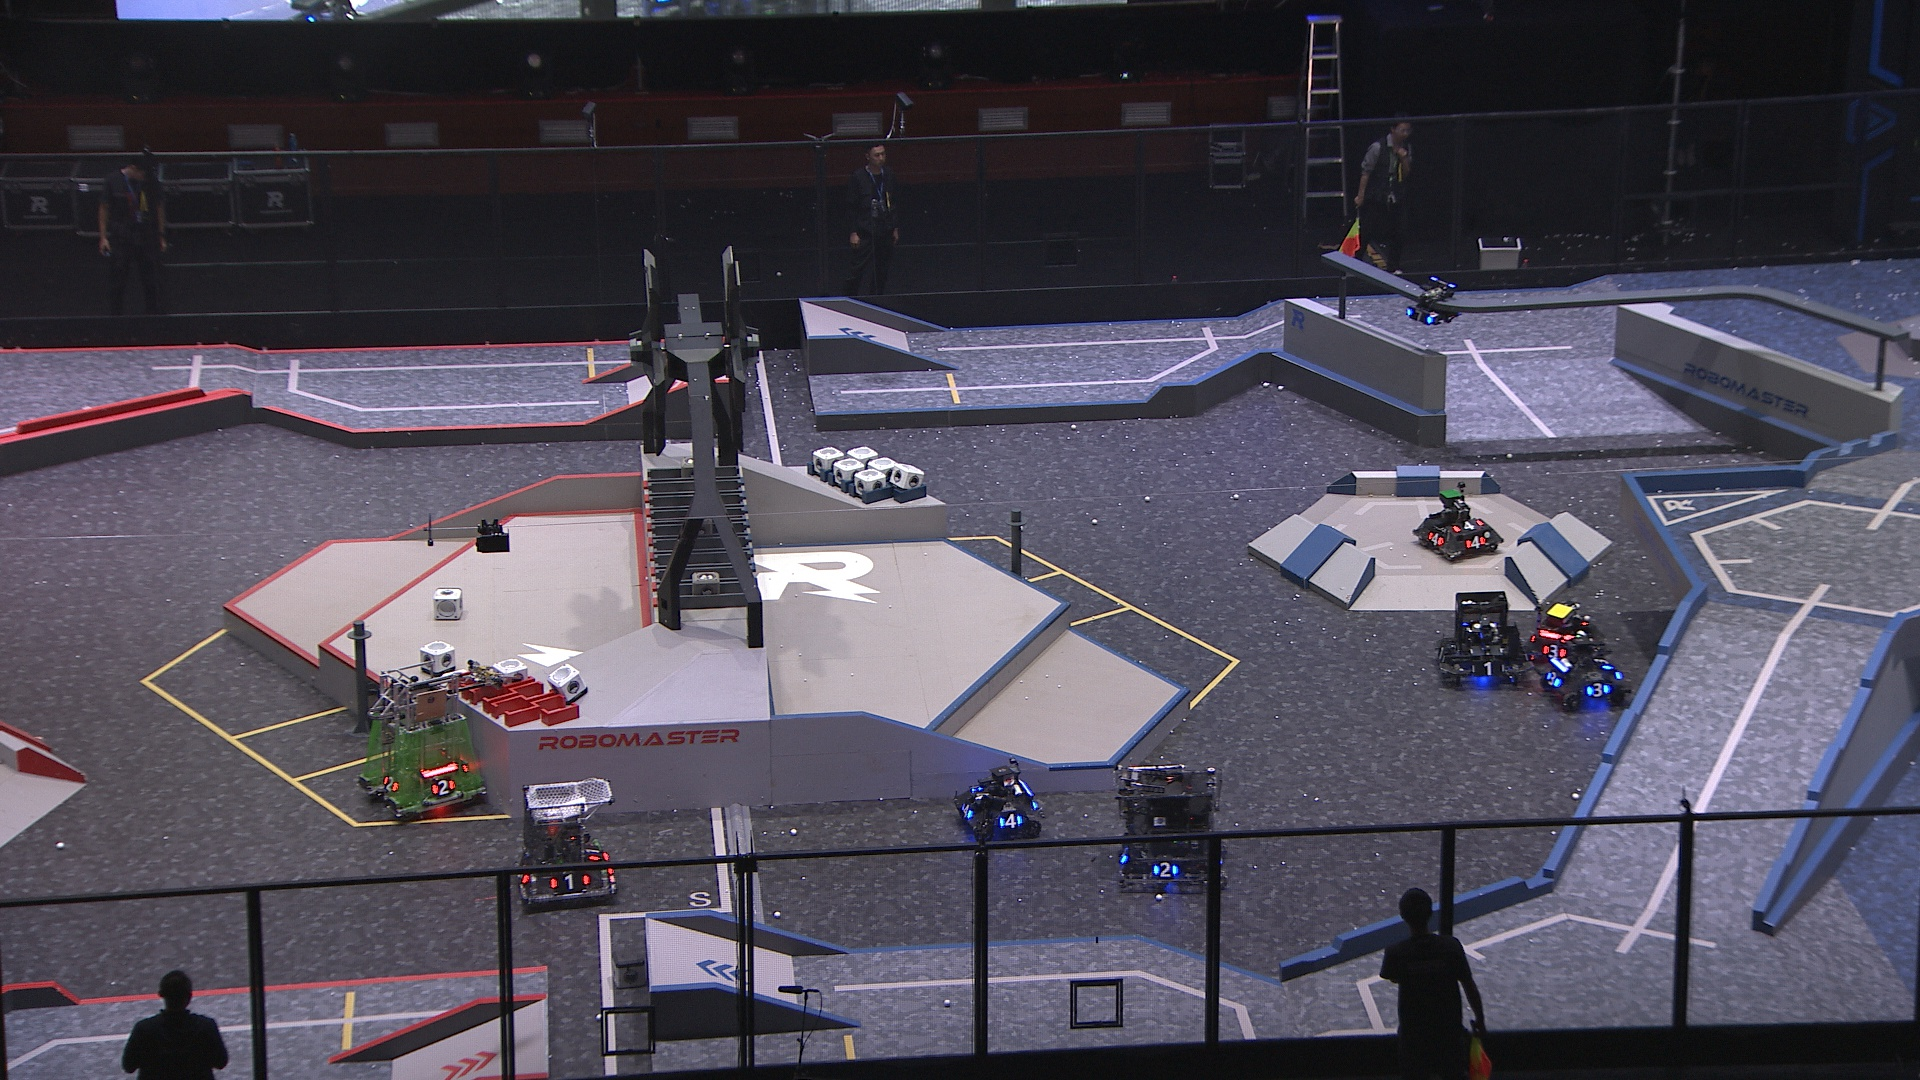armor: (549, 870, 589, 894), (1472, 659, 1509, 679), (1404, 306, 1436, 327), (1153, 858, 1182, 880), (1584, 680, 1613, 700), (1468, 645, 1506, 659), (430, 777, 458, 796), (1451, 518, 1482, 534), (1542, 642, 1569, 659), (998, 812, 1025, 829), (583, 841, 603, 864), (1594, 655, 1614, 674), (1465, 535, 1487, 551), (1545, 670, 1563, 690), (969, 785, 989, 802), (384, 775, 401, 794), (959, 803, 975, 823), (1428, 531, 1447, 547), (1437, 645, 1449, 662)
car: (357, 659, 487, 820), (1114, 757, 1230, 895), (514, 777, 618, 909), (1437, 591, 1528, 688), (1408, 479, 1505, 564), (955, 760, 1046, 844), (1538, 640, 1633, 711), (1527, 600, 1609, 674)
watcher: (1404, 276, 1461, 328)
